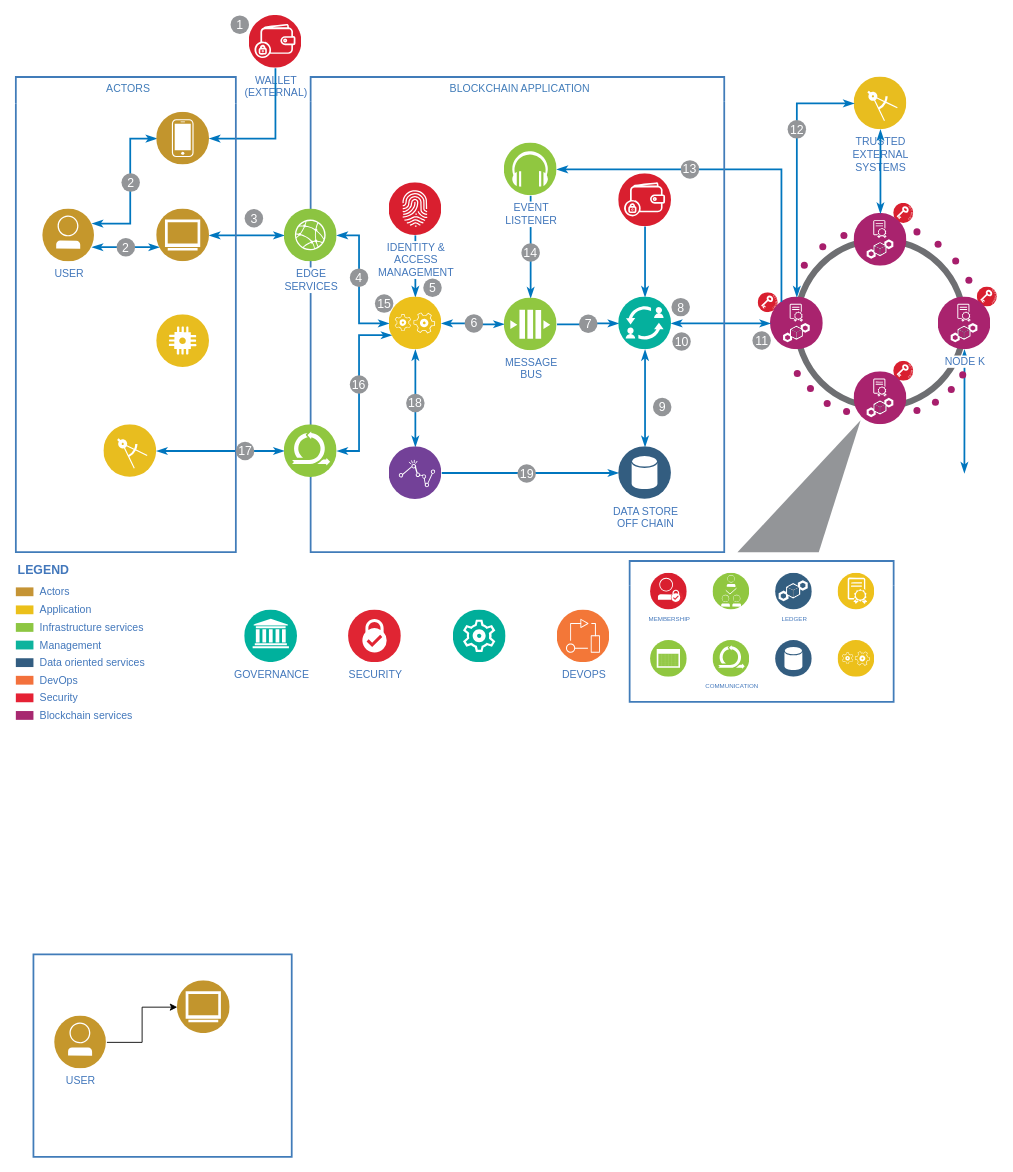
This 1013x1172 diagram has some shape labels left out. The centre of each missing label's shape, as x and y in pixels:
"ANALYTICS" goes at (x=415, y=472).
"API" goes at (x=856, y=658).
"APPLICATION LOGIC" goes at (x=415, y=323).
"CONSENSUS" goes at (x=731, y=591).
"DATA STORE" goes at (x=793, y=658).
"DEVICES" goes at (x=182, y=138).
"ENTERPRISE SYSTEMS" goes at (x=129, y=450).
"EVENTS" goes at (x=668, y=658).
"IoT DEVICES" goes at (x=182, y=340).
"NODE I" goes at (x=796, y=323).
"NODE J" goes at (x=880, y=239).
"NODE N" goes at (x=880, y=397).
"SMART CONTRACT" goes at (x=856, y=591).
"SYSTEM MANAGEMENT" goes at (x=479, y=635).
"TRANSACTION MANAGER" goes at (x=644, y=323).
"TRANSFORMATION & CONNECTIVITY" goes at (x=310, y=450).
"WALLET" goes at (x=644, y=199).
"WEB APPLICATION" goes at (x=182, y=235).
"导入工具" goes at (x=203, y=1006).
